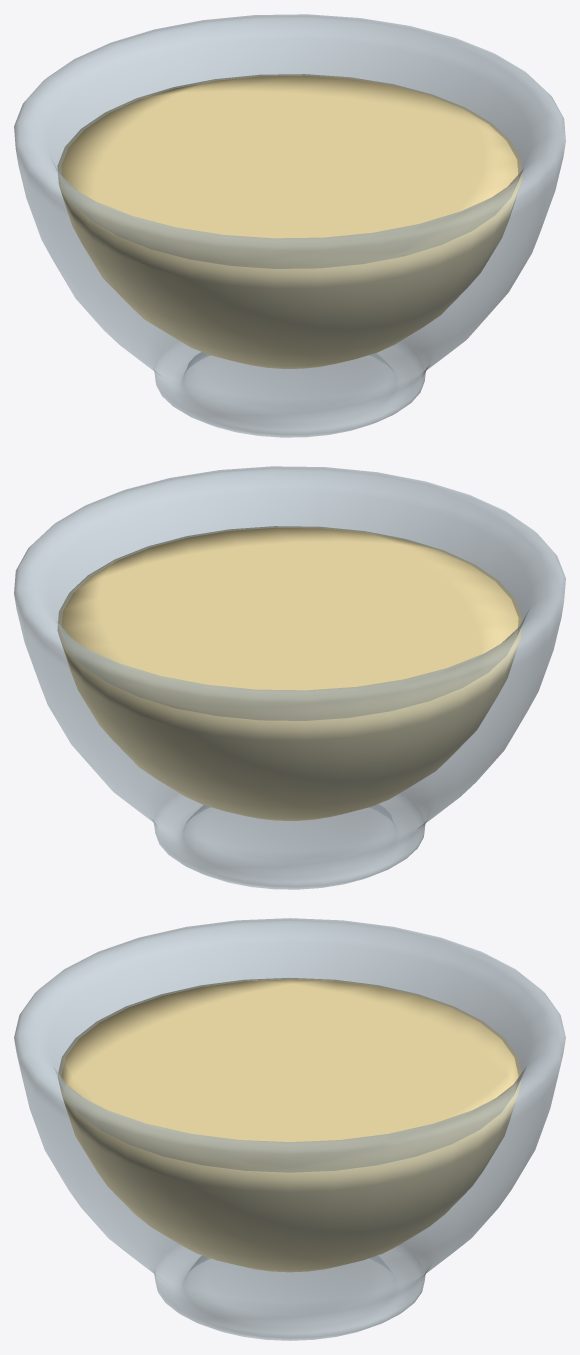
File: DoughBowl.glb
3 views of the same model, one above another, from view 1: azimuth 30°, elevation 25°; view 2: azimuth 150°, elevation 25°; view 3: azimuth 270°, elevation 25° (orthographic).
Visible parts, largest first — view 1: Bowl, Dough; view 2: Bowl, Dough; view 3: Bowl, Dough.
Part boxes in pixels (box(x1,y1,x2,y2)): Bowl: box(14, 14, 565, 437); Dough: box(57, 74, 522, 368); Bowl: box(14, 466, 565, 889); Dough: box(57, 526, 522, 820); Bowl: box(14, 918, 565, 1340); Dough: box(58, 978, 521, 1272).
Size of the model in its own units: 2.24 by 1.16 by 2.24.
